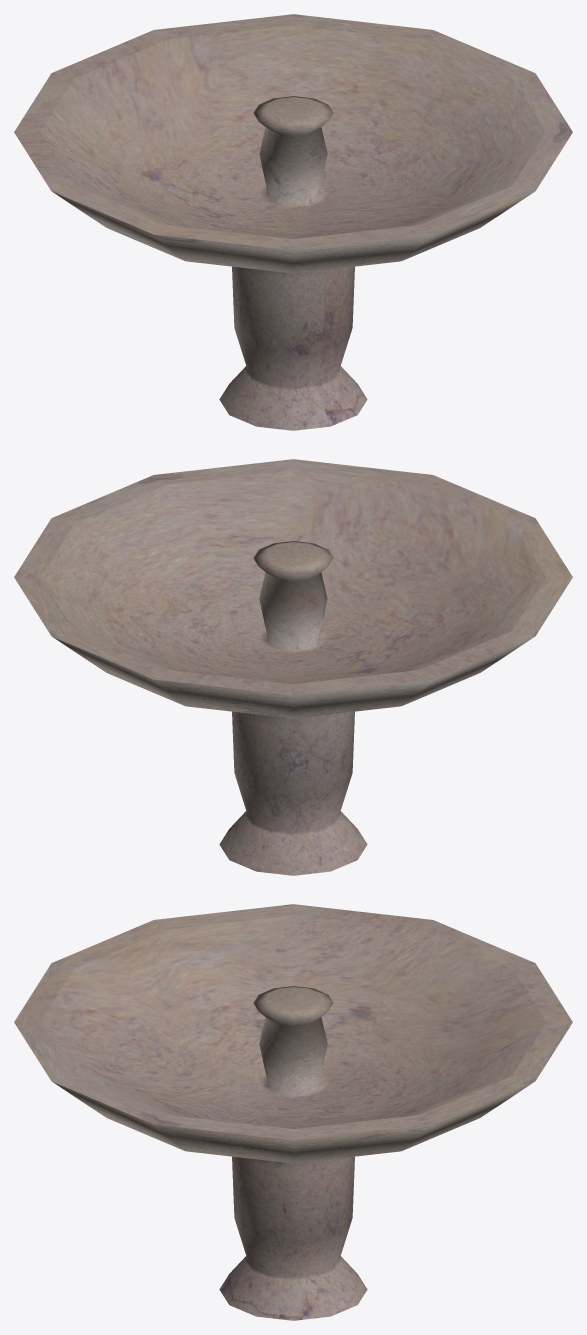
File: decorative-1.fbx
3 renders of one model, top to bottom at view 1: azimuth 30°, elevation 25°; view 2: azimuth 150°, elevation 25°; view 3: azimuth 270°, elevation 25°, orthographic.
Parts seen in each view (by area): view 1: decorative-1; view 2: decorative-1; view 3: decorative-1.
Boxes of the visible parts, bbox=[...] form: decorative-1: bbox=[14, 14, 572, 430]; decorative-1: bbox=[14, 459, 572, 875]; decorative-1: bbox=[14, 904, 572, 1320].
Bounding box in the file's own units: 283 × 162 × 283.
